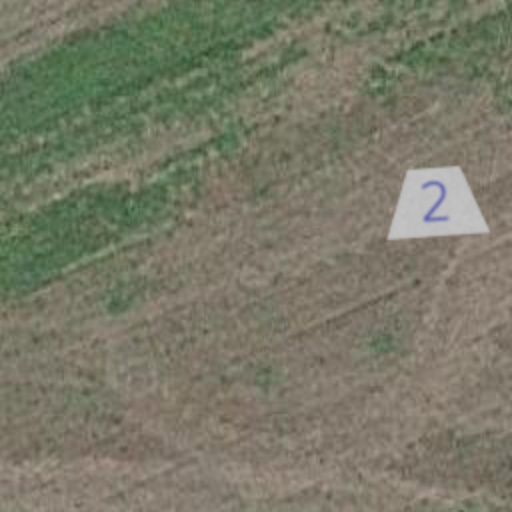trapezoid: (380, 146, 492, 258)
